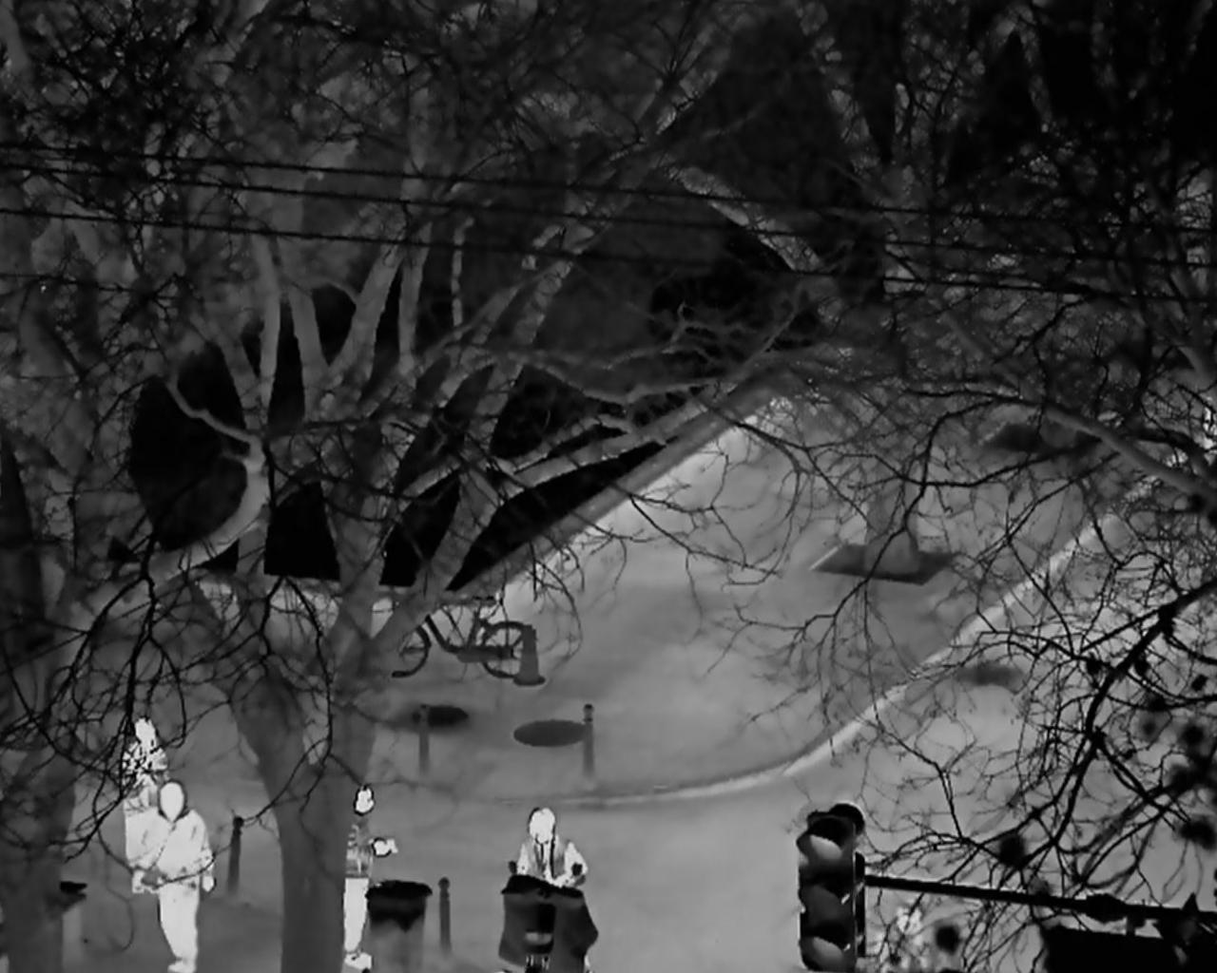person: (130, 782, 215, 973), (348, 782, 396, 966), (515, 807, 588, 893), (120, 718, 167, 805)
